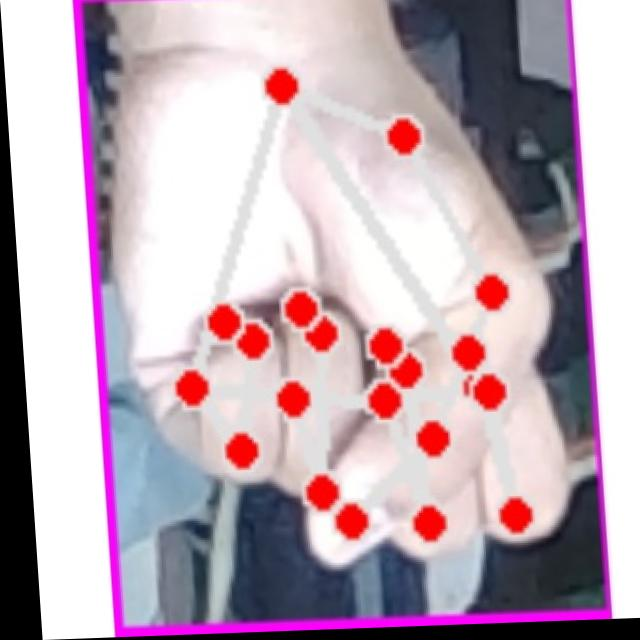S: (101, 35, 575, 592)
